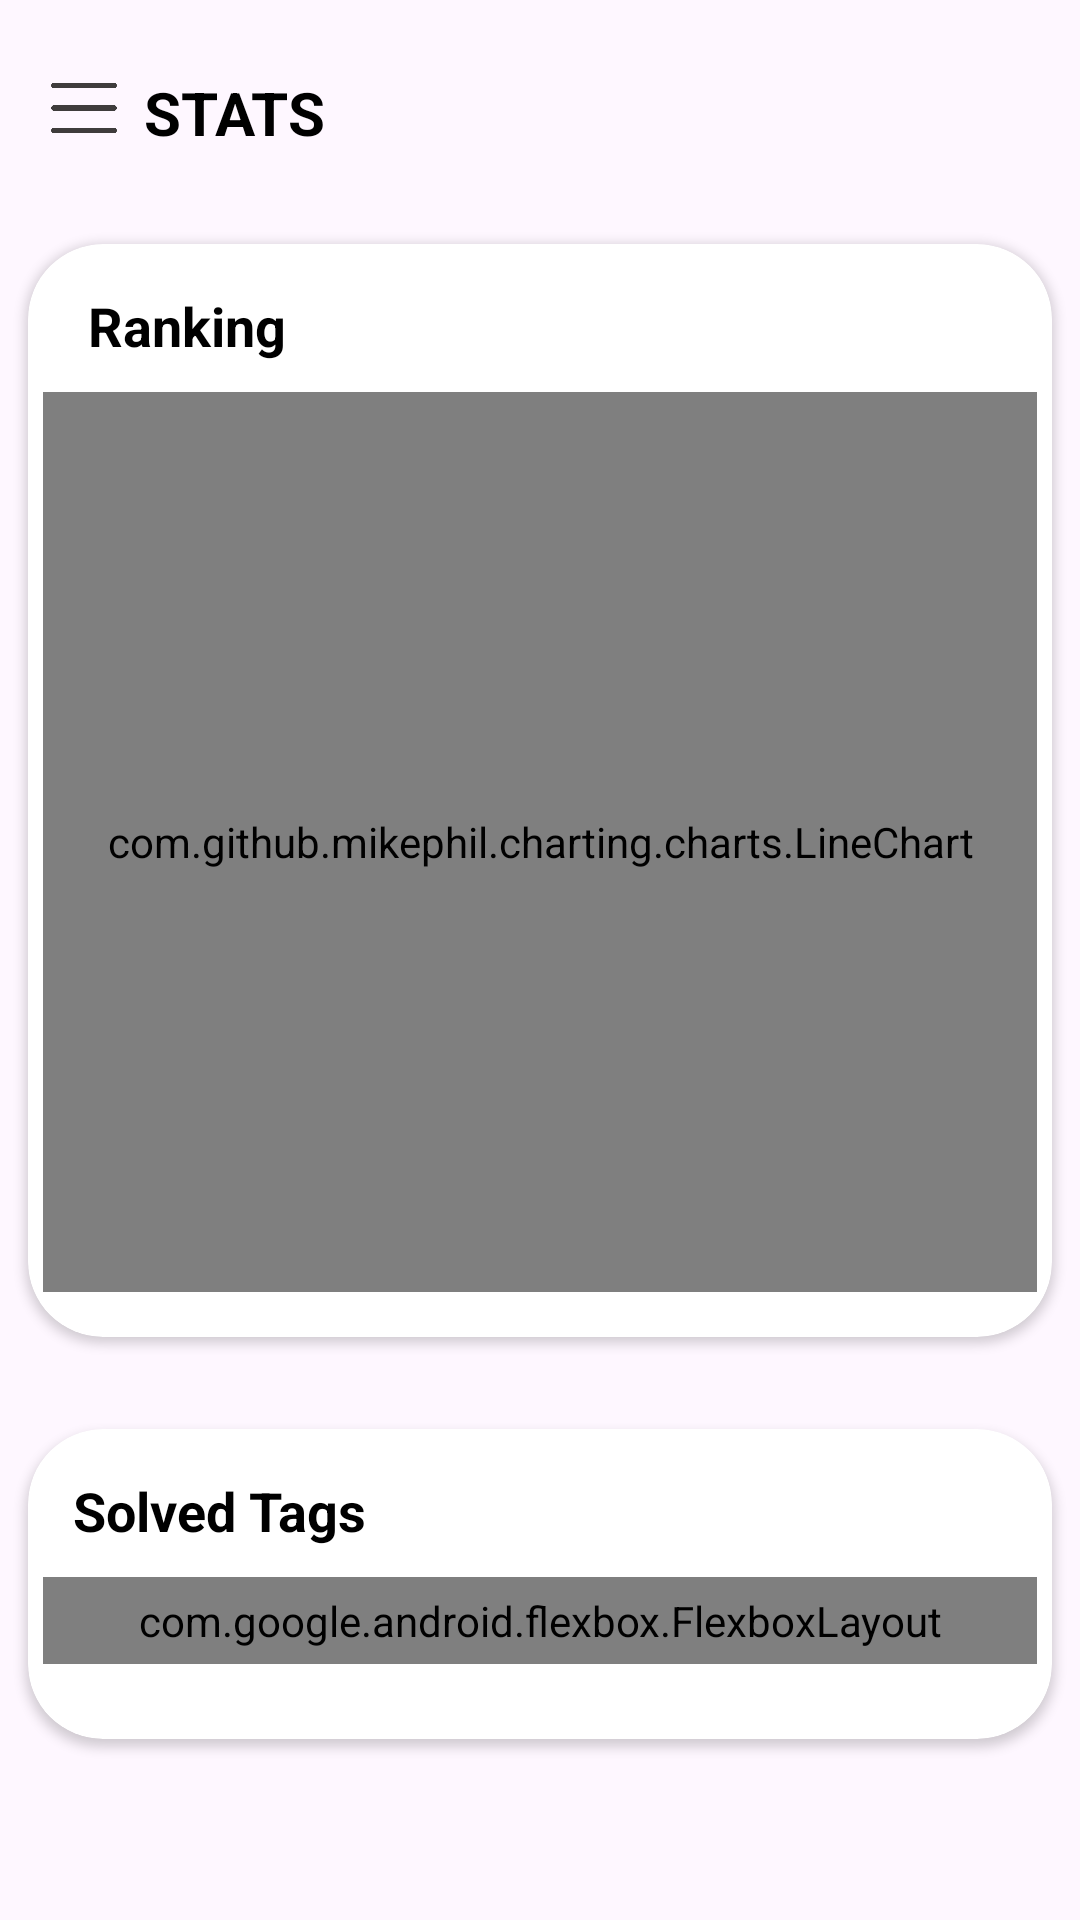

Screen size 1080w x 1920h. Icon name, then its box in pixels as BBox(x1, y1, x2, y2):
sidebar: BBox(51, 83, 117, 133)
